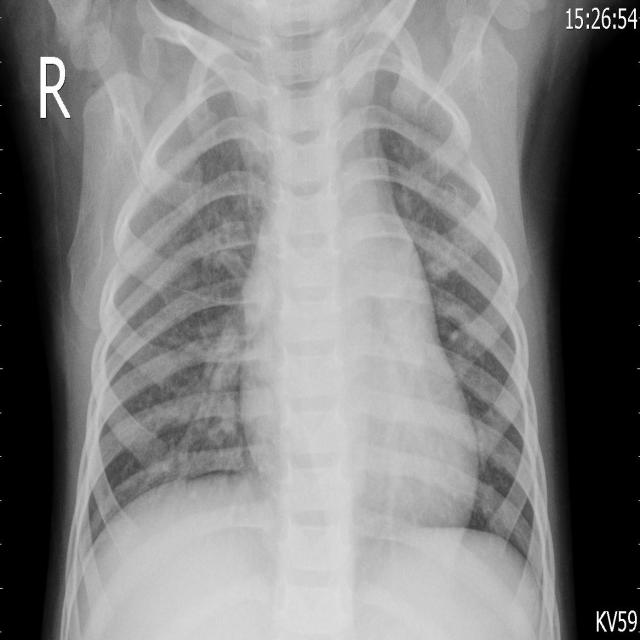no-pneumonia: (371, 70, 553, 598), (74, 92, 271, 559)
